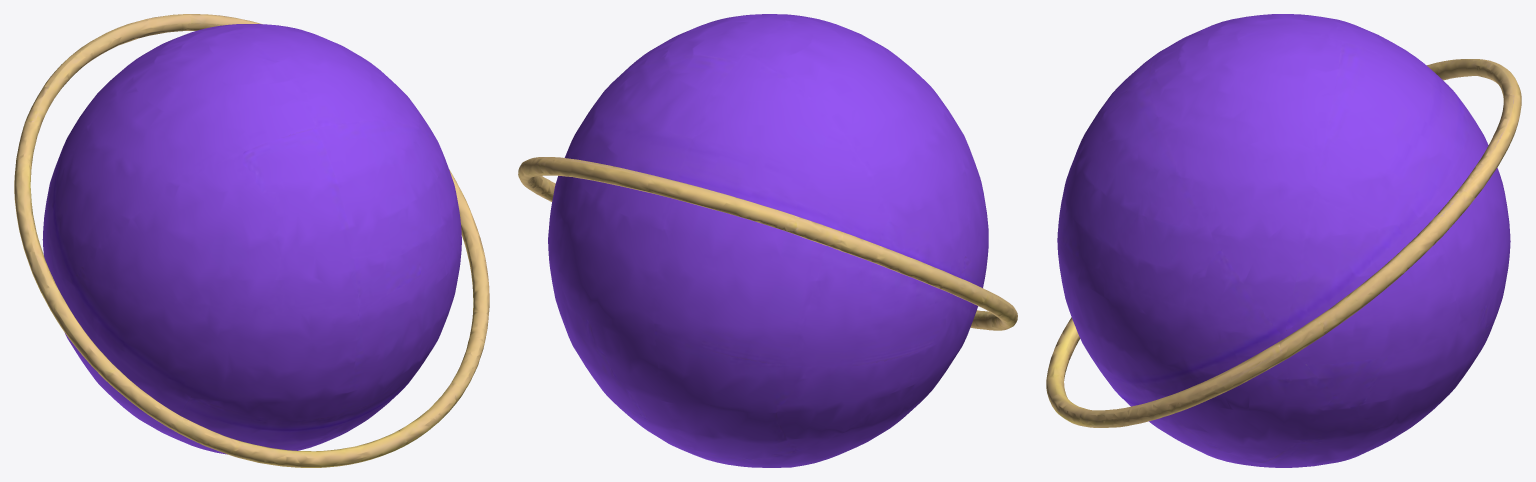
Rendered from ic-background.glb.
3 views of the same model, side by side, from view 1: azimuth 30°, elevation 25°; view 2: azimuth 150°, elevation 25°; view 3: azimuth 270°, elevation 25° (orthographic). The views are drawn at different scales.
Parts seen in each view (by area): view 1: tripo_node_84a7511f-b3f1-4ec9-8323-e9ae462ccf76; view 2: tripo_node_84a7511f-b3f1-4ec9-8323-e9ae462ccf76; view 3: tripo_node_84a7511f-b3f1-4ec9-8323-e9ae462ccf76.
Part boxes in pixels (box(x1,y1,x2,y2)): tripo_node_84a7511f-b3f1-4ec9-8323-e9ae462ccf76: box(14, 14, 489, 467); tripo_node_84a7511f-b3f1-4ec9-8323-e9ae462ccf76: box(518, 14, 1017, 467); tripo_node_84a7511f-b3f1-4ec9-8323-e9ae462ccf76: box(1046, 14, 1521, 467).
Size of the model in its own units: 1.11 by 1 by 1.04.
Materials: 1 (1 with a texture image).
